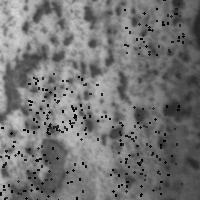pitted_surface: (20, 1, 200, 128), (77, 70, 199, 189), (27, 73, 85, 133), (44, 78, 101, 138), (119, 105, 178, 161), (105, 114, 160, 174), (126, 136, 181, 193), (124, 0, 182, 54), (0, 108, 52, 166), (26, 136, 70, 198), (2, 50, 41, 116), (30, 154, 85, 200), (0, 143, 41, 200), (0, 159, 41, 200), (101, 169, 152, 200)
